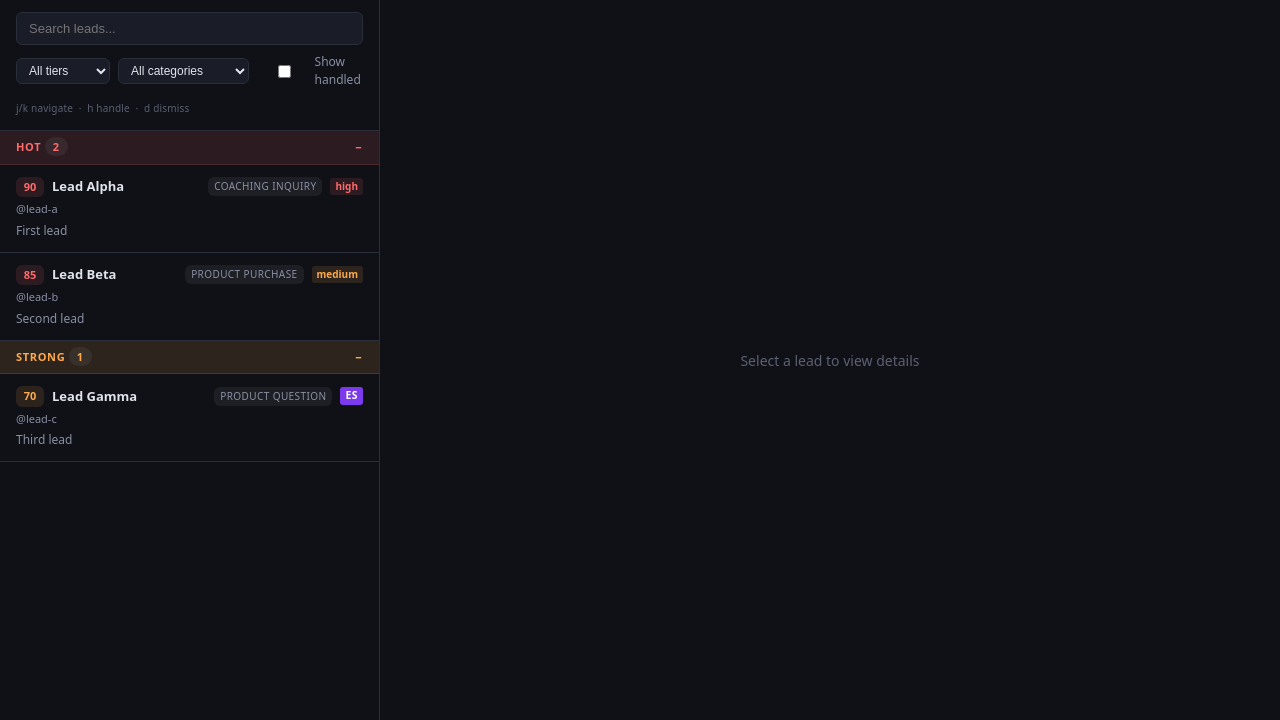
Test case: Page — S4 keyboard navigation › pressing h marks the selected lead as handled
The width and height of the screenshot is (1280, 720).
Click the text "Lead Alpha": [88, 186] box [52,177,124,195]
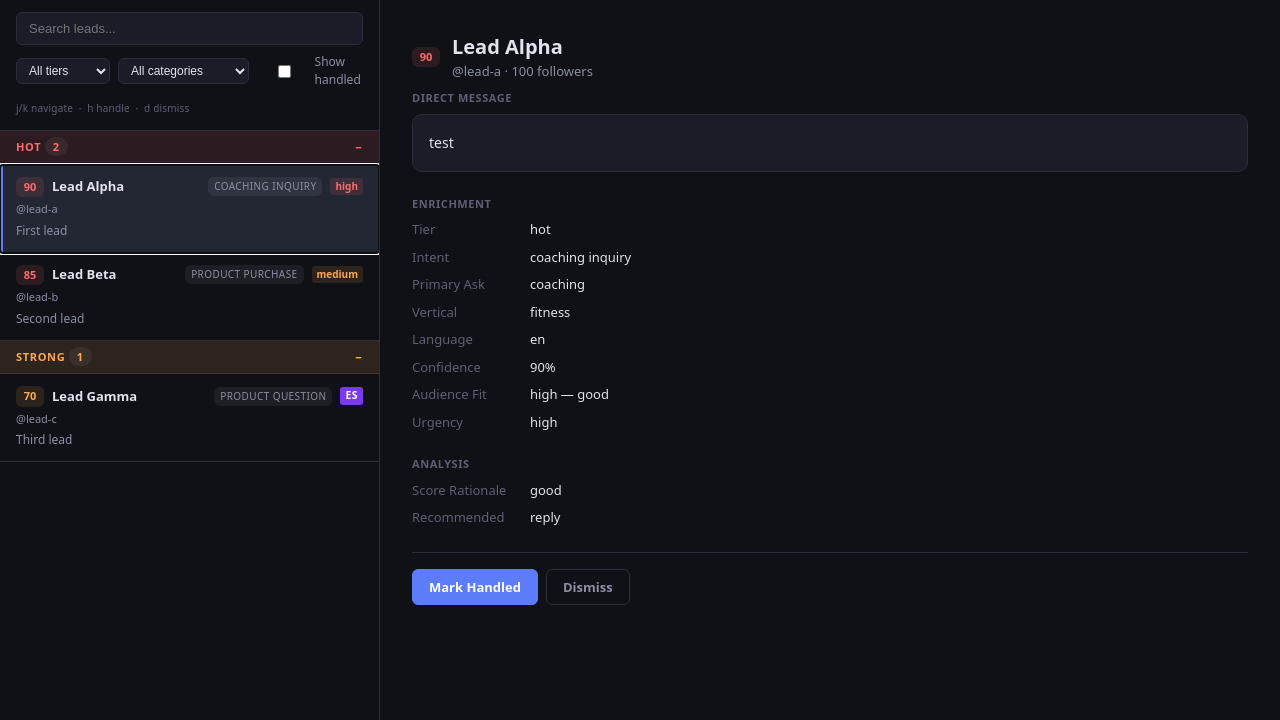
Type keys "h"
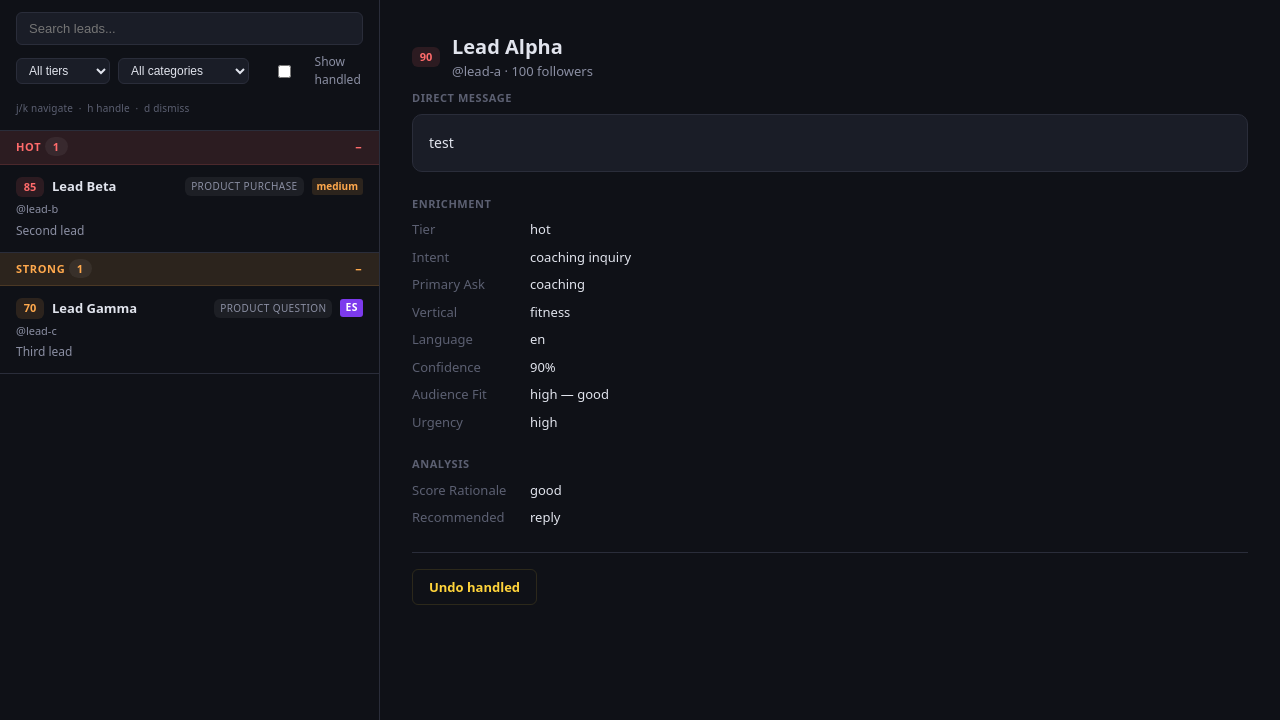
Expected: the button "Undo handled" is shown, [412,569,537,605]
